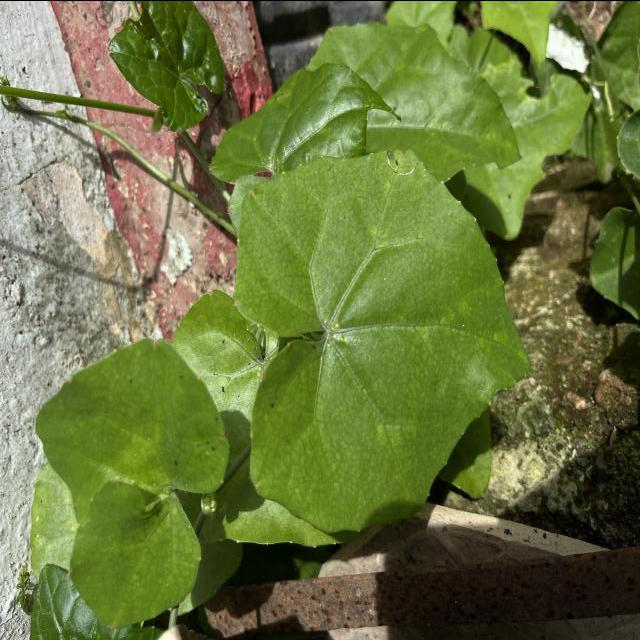Coccinia grandis: (232, 146, 536, 536)
